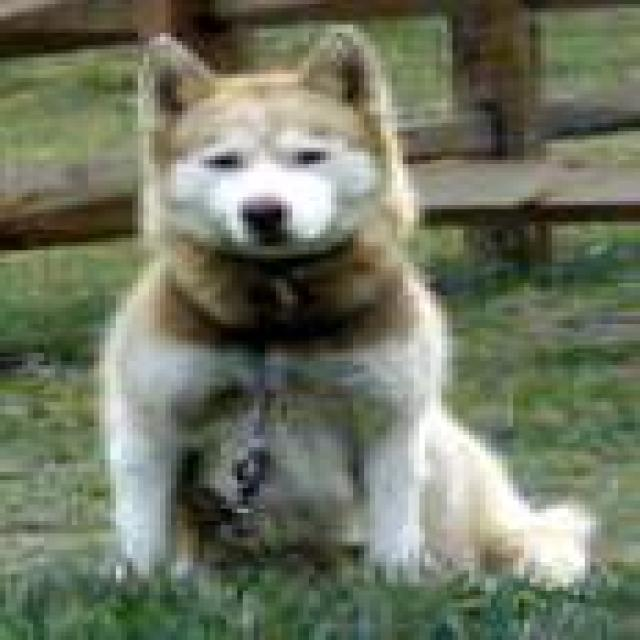dog: (89, 20, 602, 591)
